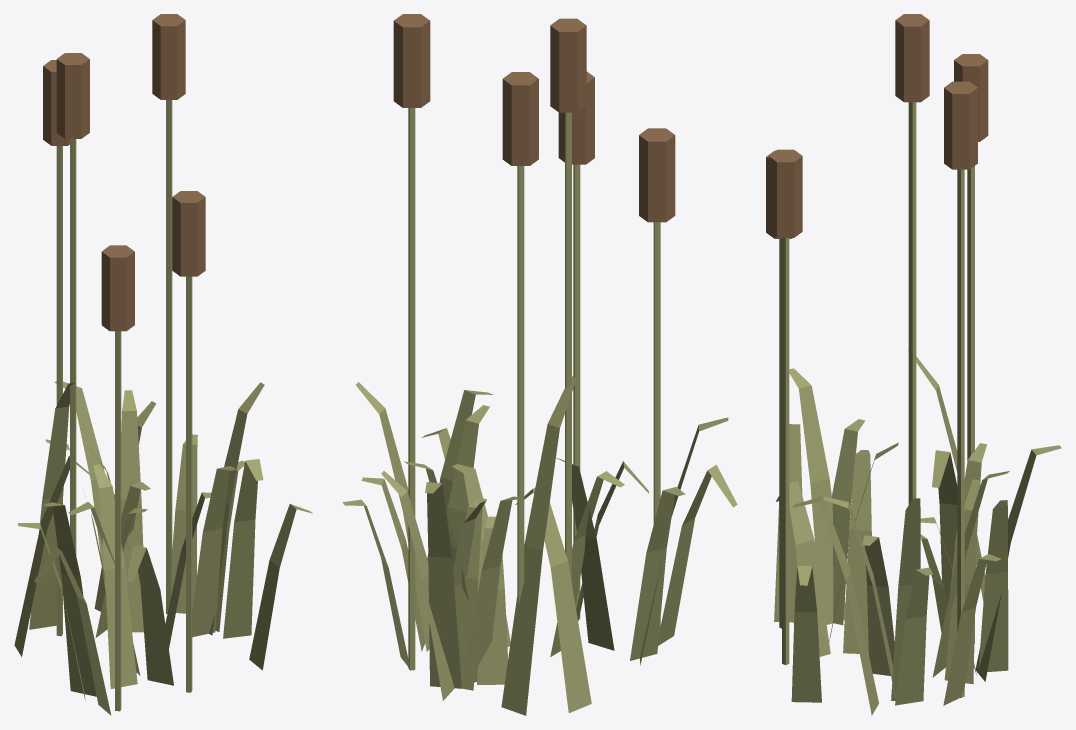
Rendered from reeds_1.glb.
The picture shows the model from 3 angles, left to right: view 1: azimuth 30°, elevation 25°; view 2: azimuth 150°, elevation 25°; view 3: azimuth 270°, elevation 25°; orthographic projection. The views are drawn at different scales.
Parts seen in each view (by area): view 1: reeds_1; view 2: reeds_1; view 3: reeds_1.
Part boxes in pixels (left/top/right/bottom): reeds_1: left=14, top=14, right=312, bottom=715; reeds_1: left=342, top=14, right=737, bottom=715; reeds_1: left=766, top=14, right=1061, bottom=715.
Size of the model in its own units: 0.8958 by 1.79 by 0.7791.
